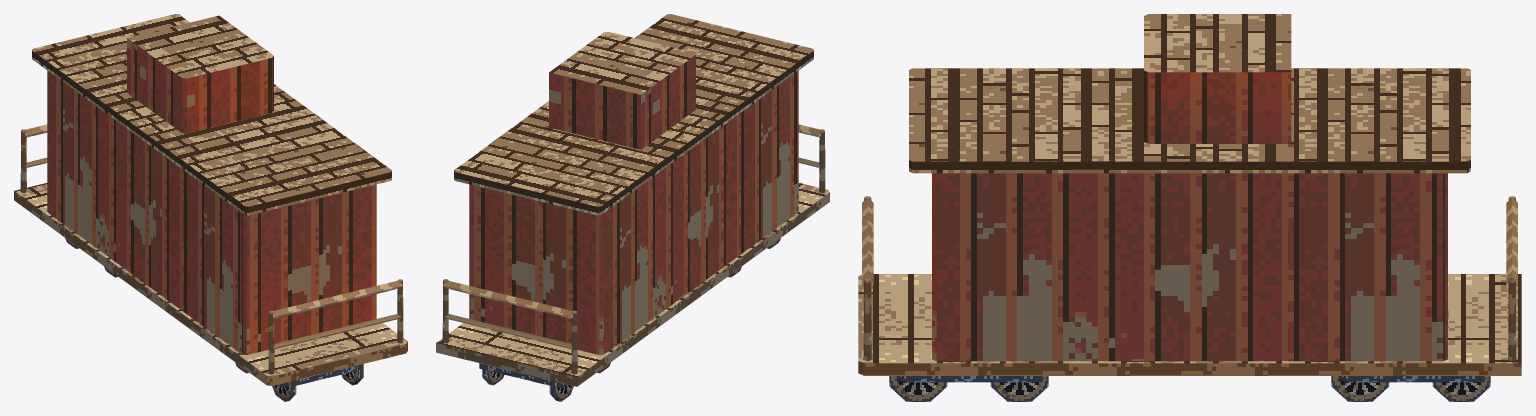
File: wrail.car__caboose.glb
The picture shows the model from 3 angles, left to right: view 1: azimuth 30°, elevation 25°; view 2: azimuth 150°, elevation 25°; view 3: azimuth 270°, elevation 25°; orthographic projection. The views are drawn at different scales.
Visible parts, largest first — view 1: kit_body, kit_roof, kit_cupola, kit_frame, kit_platforms, kit_wheels, kit_trucks; view 2: kit_body, kit_roof, kit_cupola, kit_frame, kit_platforms, kit_wheels, kit_trucks; view 3: kit_body, kit_roof, kit_frame, kit_cupola, kit_wheels, kit_platforms, kit_trucks.
Part boxes in pixels (left/top/right/bottom): kit_body: left=47, top=70, right=376, bottom=354; kit_roof: left=32, top=14, right=391, bottom=215; kit_cupola: left=127, top=15, right=273, bottom=133; kit_frame: left=14, top=183, right=407, bottom=385; kit_platforms: left=20, top=124, right=403, bottom=374; kit_wheels: left=65, top=238, right=363, bottom=401; kit_trucks: left=279, top=365, right=356, bottom=386; kit_body: left=469, top=71, right=798, bottom=354; kit_roof: left=454, top=14, right=813, bottom=215; kit_cupola: left=549, top=31, right=695, bottom=149; kit_frame: left=436, top=183, right=829, bottom=386; kit_platforms: left=442, top=124, right=825, bottom=374; kit_wheels: left=482, top=238, right=780, bottom=401; kit_trucks: left=479, top=363, right=567, bottom=388; kit_body: left=932, top=173, right=1447, bottom=361; kit_roof: left=909, top=68, right=1470, bottom=173; kit_frame: left=858, top=274, right=1521, bottom=375; kit_cupola: left=1144, top=14, right=1291, bottom=143; kit_wheels: left=889, top=376, right=1490, bottom=401; kit_platforms: left=862, top=196, right=1517, bottom=360; kit_trucks: left=896, top=376, right=1484, bottom=382.
Size of the model in its own units: 2.4 by 4.02 by 7.2.
Materials: 9 (9 with a texture image).
